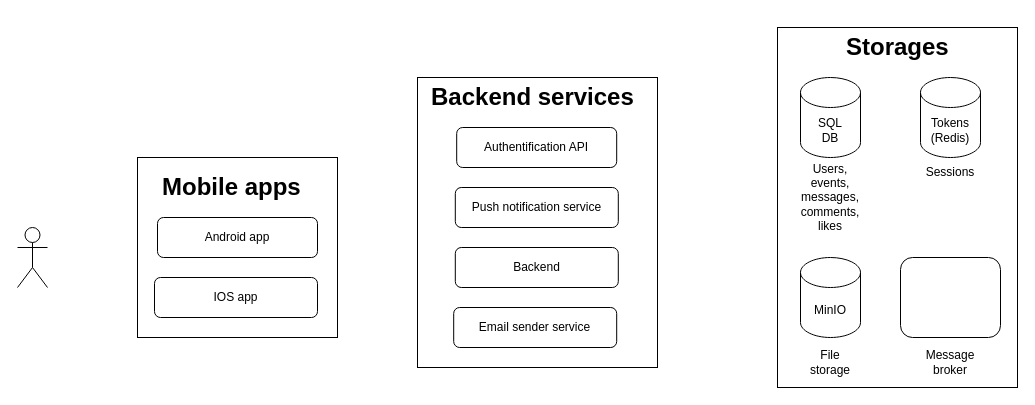
The diagram is 1035 pixels wide and 405 high, and some of its shapes have lost their labels. Each missing label, with the centre of its shape:
"RabbitMQ" belongs at (950,297).
"User" belongs at (32,257).
